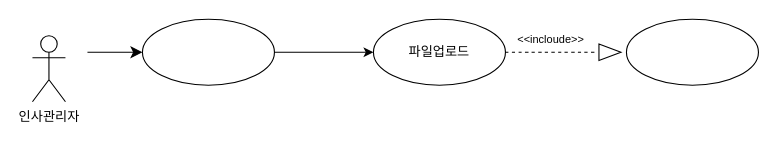
Some shapes in this 778 by 144 pixel diagram are drawn without their labels. Here are the shapes that lost their labels. From the top down, the centre of each, then its label:
At point 207,51: "파일크기 검증".
At point 691,51: "공지사항 등록".
